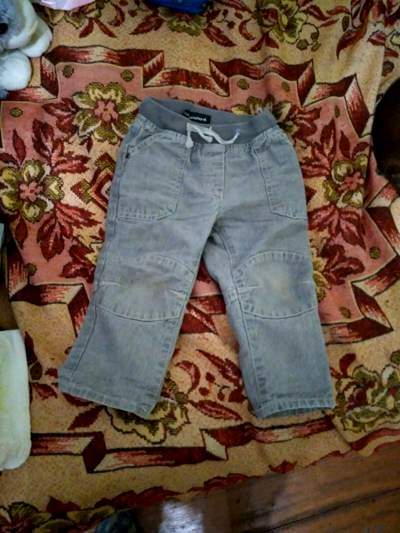Pants: (70, 81, 341, 411)
